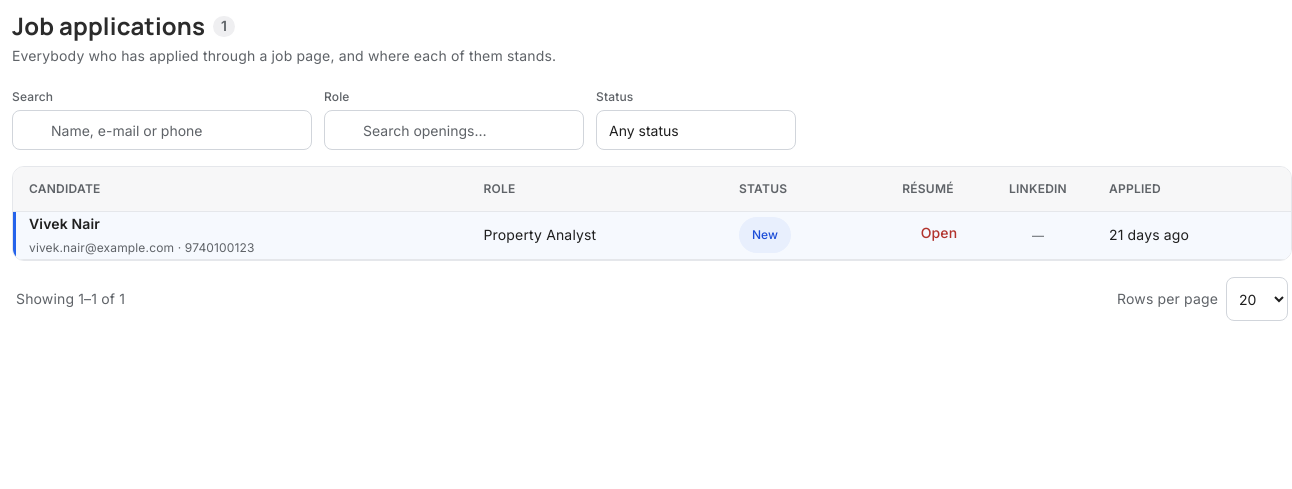
it: changes a status from the chip, showing it before the API answers
What coordinates should you click on to do the following:
click the button with aria-label "status of vivek nair"
I would click on:
 (765, 236)
Its box is x1=739 y1=218 x2=791 y2=254.
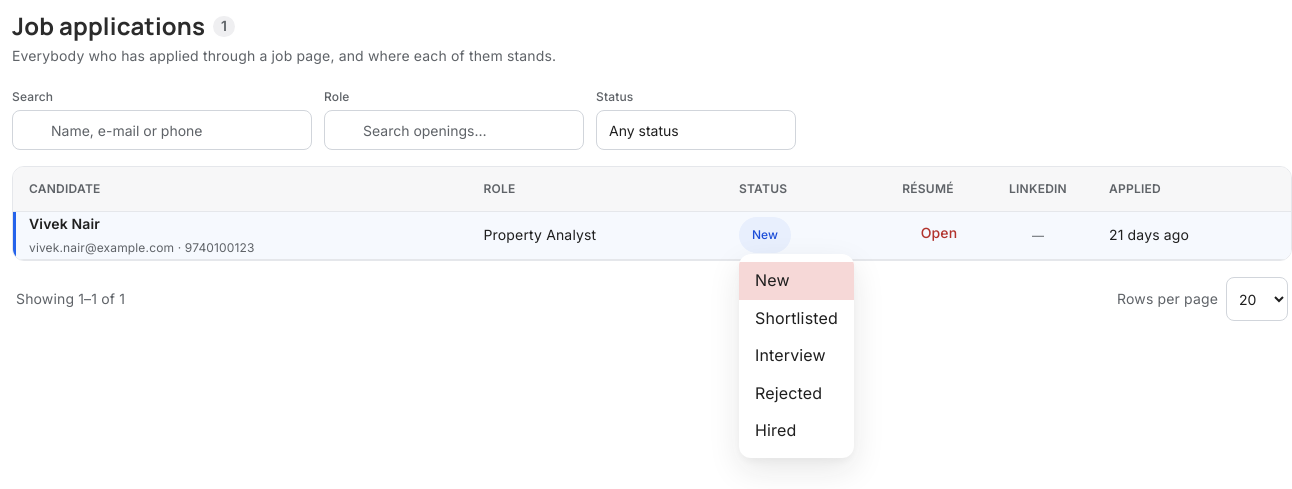
What coordinates should you click on to do the following:
click the menu item "Shortlisted"
I would click on:
 (796, 318)
Its box is x1=755 y1=308 x2=838 y2=328.
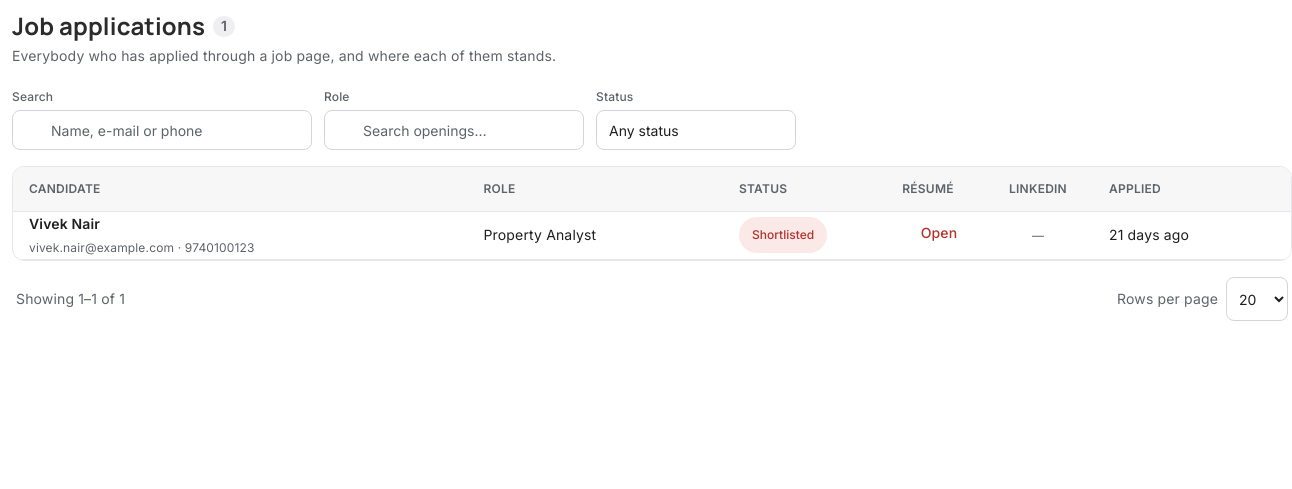
Check: the button with aria-label "status of vivek nair: shortlisted" is shown, box x1=739 y1=218 x2=827 y2=254
